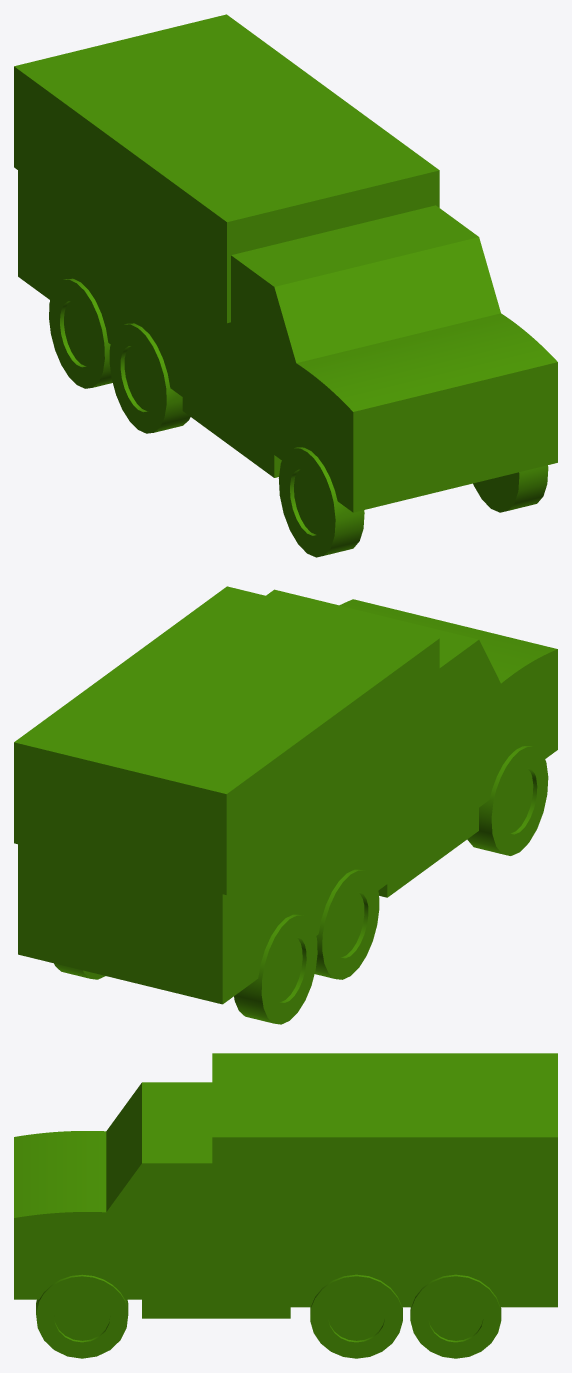
Rendered from Game_Piece_Troop_3_Green_01.fbx.
3 renders of one model, top to bottom at view 1: azimuth 30°, elevation 25°; view 2: azimuth 150°, elevation 25°; view 3: azimuth 270°, elevation 25°, orthographic. The views are drawn at different scales.
Visible parts, largest first — view 1: Game_Piece_Troop_3_Green_01; view 2: Game_Piece_Troop_3_Green_01; view 3: Game_Piece_Troop_3_Green_01.
Part boxes in pixels (x1,y1,x2,y2): Game_Piece_Troop_3_Green_01: (14,14,557,557); Game_Piece_Troop_3_Green_01: (14,586,557,1024); Game_Piece_Troop_3_Green_01: (14,1053,557,1358).
Bounding box in the file's own units: 10.54 × 12.92 × 28.79.
